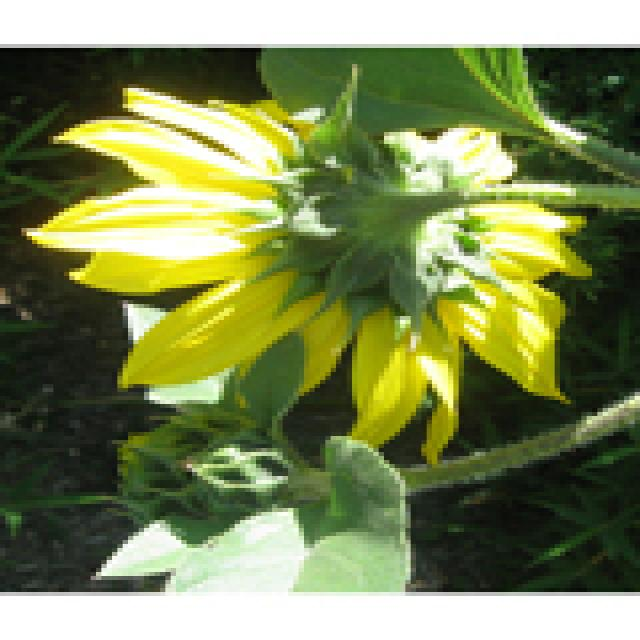sunflower: (12, 66, 615, 482)
